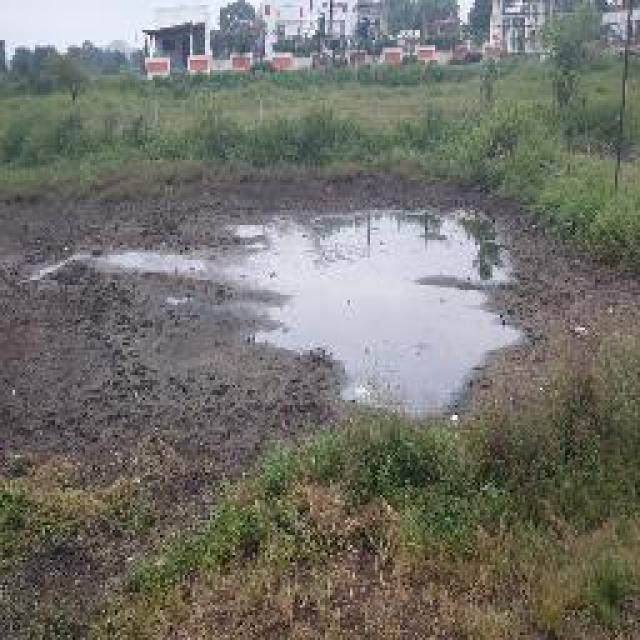stagnation: (24, 184, 546, 441)
